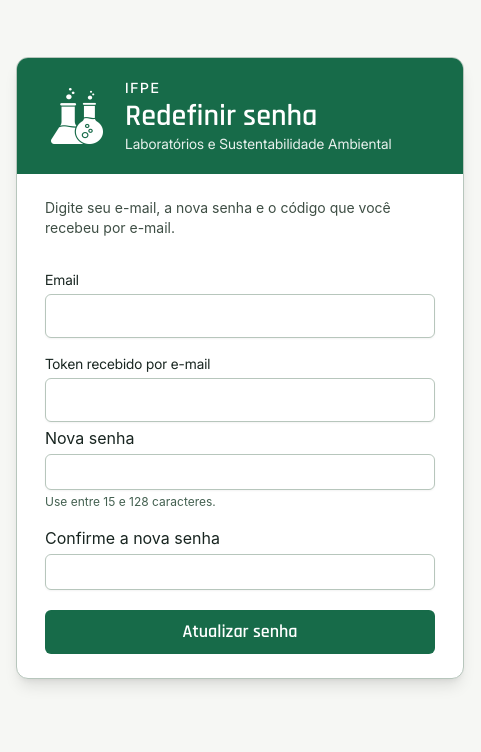
it: ResetPassword › traduz o cÃ³digo de validaÃ§Ã£o retornado pelo servidor sem encerrar a sessÃ£o
The width and height of the screenshot is (481, 752).
Type "usuario@example.org" into the field labelled "Email" at x=240, y=316, box [45, 294, 435, 338]
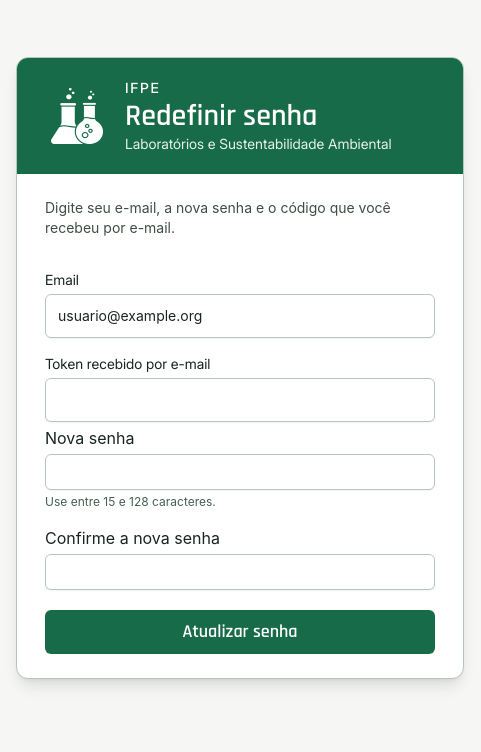
Type "codigo-seguro" into the field labelled "Token recebido por e-mail" at x=240, y=400, box [45, 378, 435, 422]
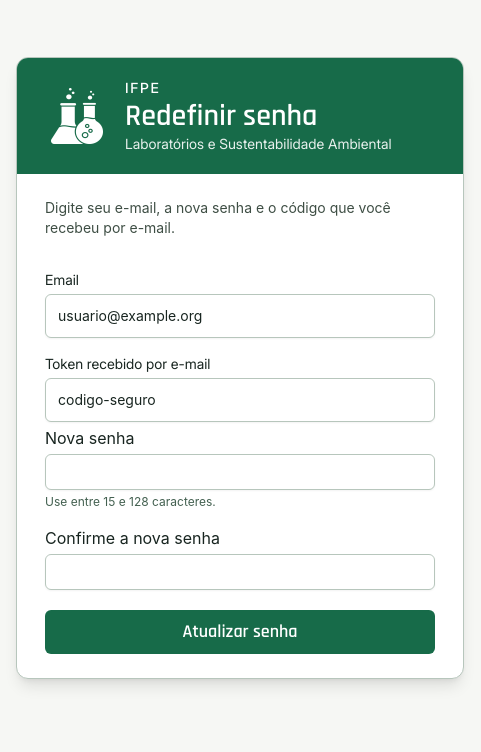
Type "nova-senha-valida" into the password field labelled "Nova senha" at x=240, y=472, box [45, 454, 435, 490]
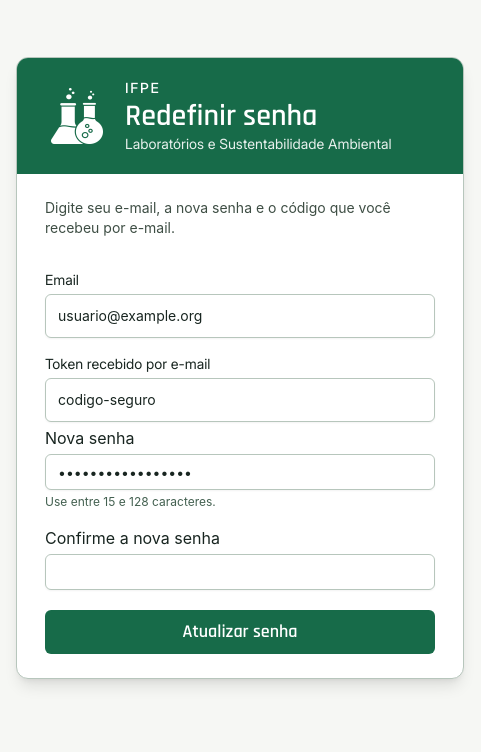
Type "nova-senha-valida" into the password field labelled "Confirme a nova senha" at x=240, y=572, box [45, 554, 435, 590]
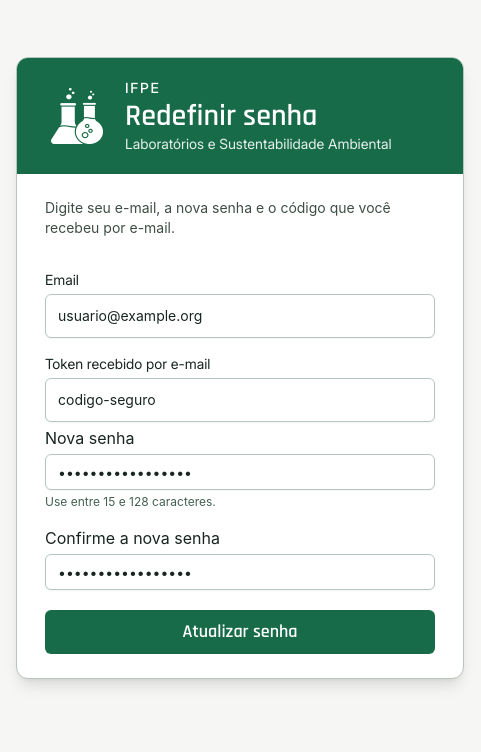
Click the button "Atualizar senha" at x=240, y=632, box [45, 610, 435, 654]
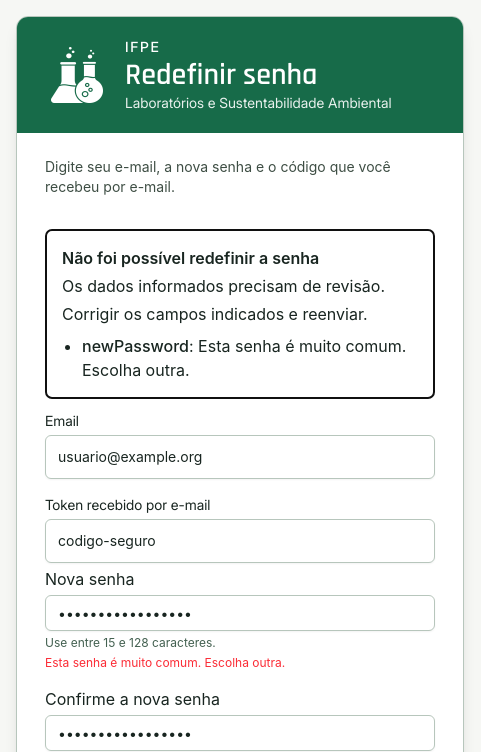
Expected: the message named "N.o foi poss.vel redefinir a senha" does not show "SENTINELA_REMOTA", [45, 229, 435, 399]
Expected: the message named "N.o foi poss.vel redefinir a senha" shows "Os dados informados precisam de revisão.", [62, 276, 385, 296]
Expected: the message named "N.o foi poss.vel redefinir a senha" shows "Esta senha é muito comum. Escolha outra.", [82, 336, 406, 380]
